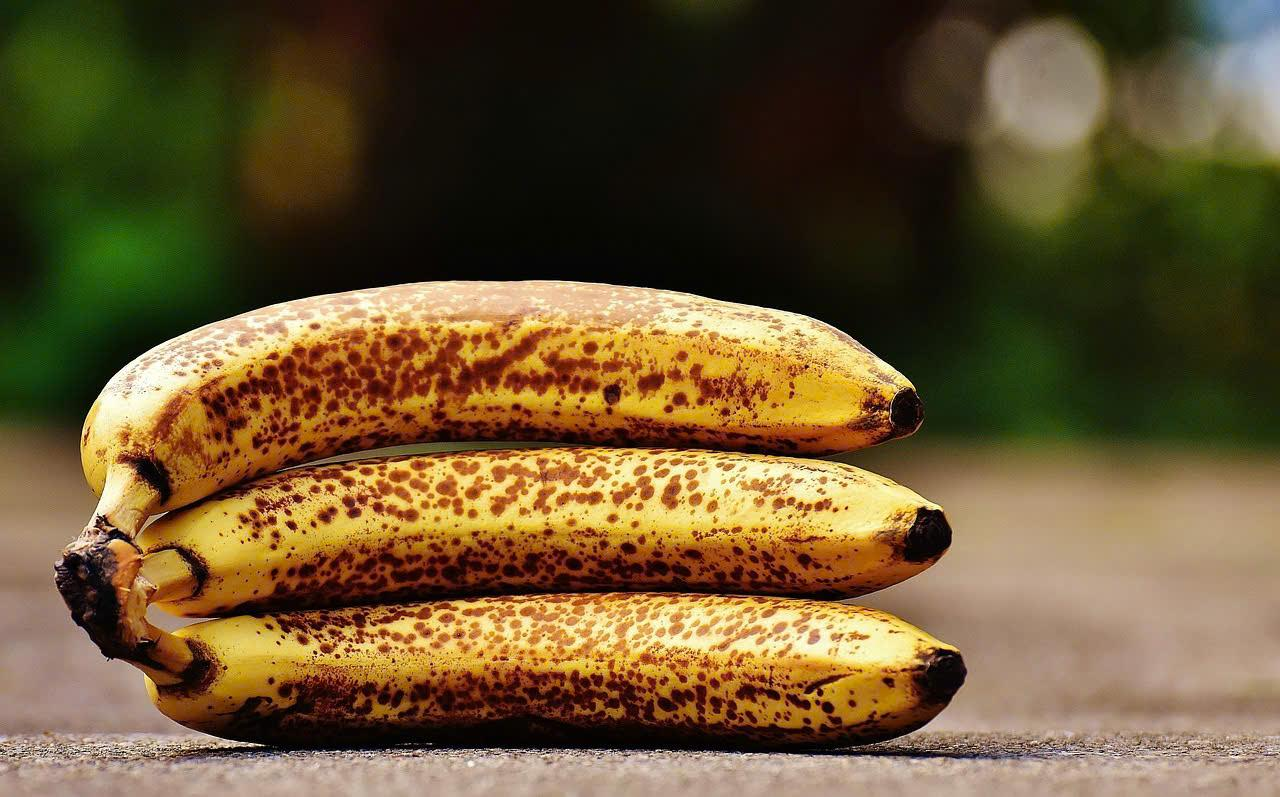banana: (64, 260, 967, 733)
